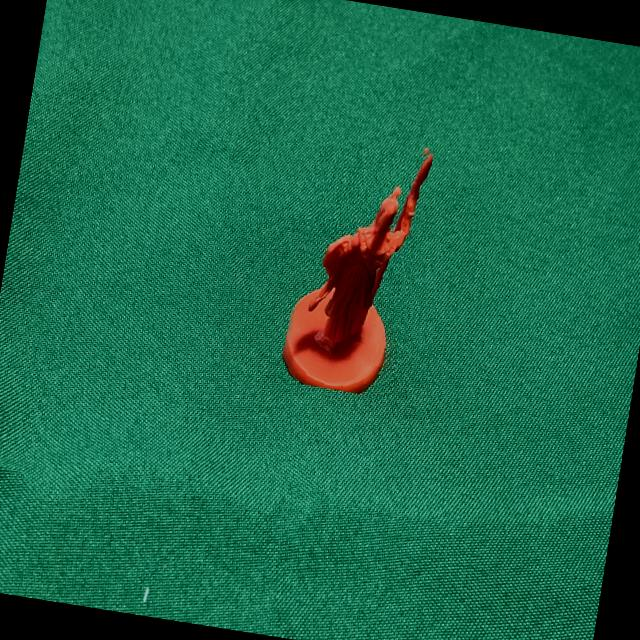amon_follower: (282, 153, 433, 395)
